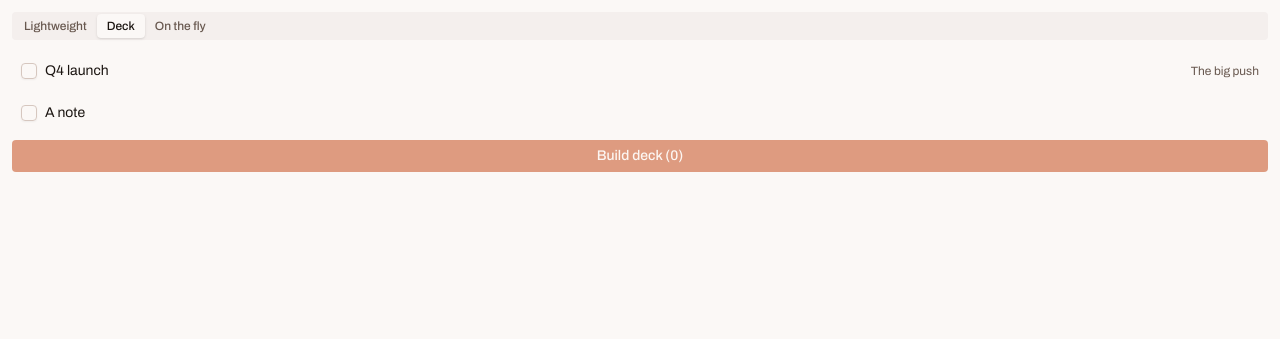
PresentPane — Deck mode › steps forward and back through a multi-slide deck, disabling at each end
The width and height of the screenshot is (1280, 339).
What coordinates should you click on to do the following:
click the checkbox named "Q4 launch" next to "Q4 launch"
I would click on:
 (29, 71)
Its box is [21,63,37,79].
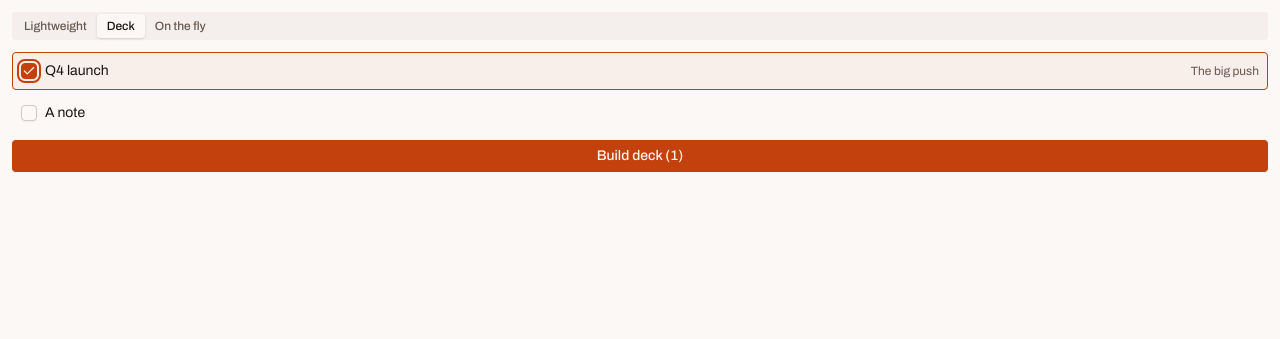
What coordinates should you click on to do the following:
click the checkbox named "A note" next to "A note"
I would click on:
 (29, 113)
Its box is [21,105,37,121].
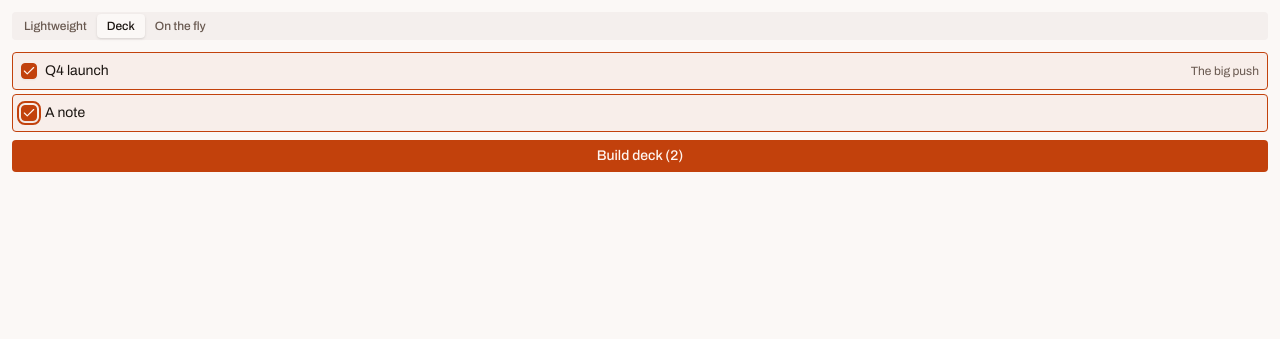
What coordinates should you click on to do the following:
click the button "Build deck (2)"
I would click on:
 (640, 156)
Its box is [12,140,1268,172].
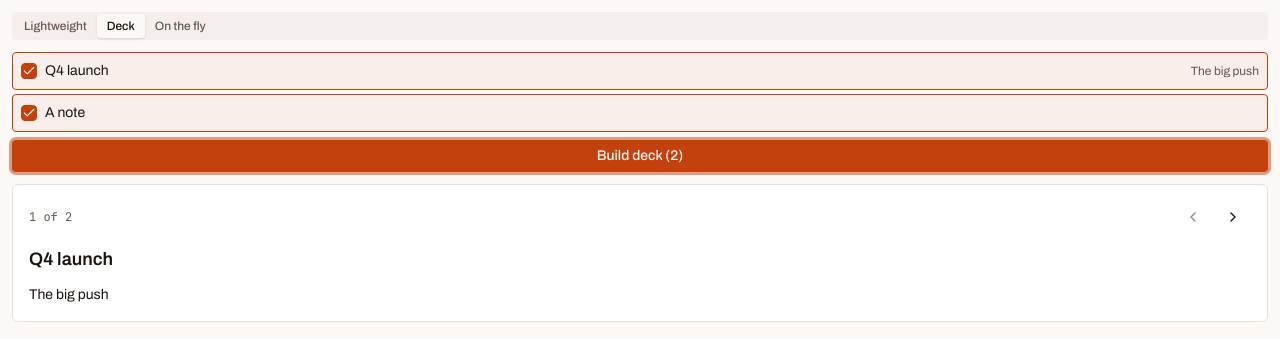
Expected: the button named "Previous slide" is disabled, [1175,201,1211,233]
Result: the text "1 of 2" is shown at [29,209,72,225]
What coordinates should you click on to do the following:
click the button named "Next slide"
I would click on:
 (1233, 217)
Its box is [1215,201,1251,233].
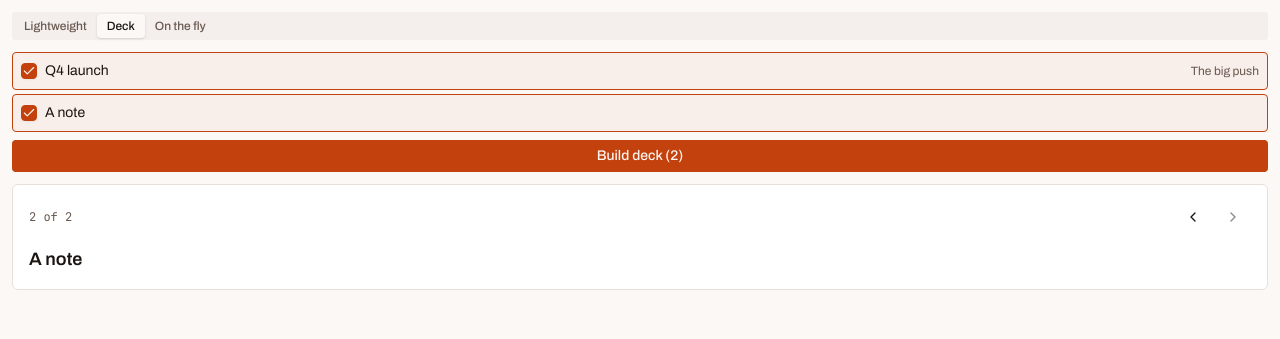
Result: the text "2 of 2" is shown at [29,209,72,225]
What coordinates should you click on to do the following:
click the button named "Previous slide"
I would click on:
 (1193, 217)
Its box is [1175,201,1211,233].
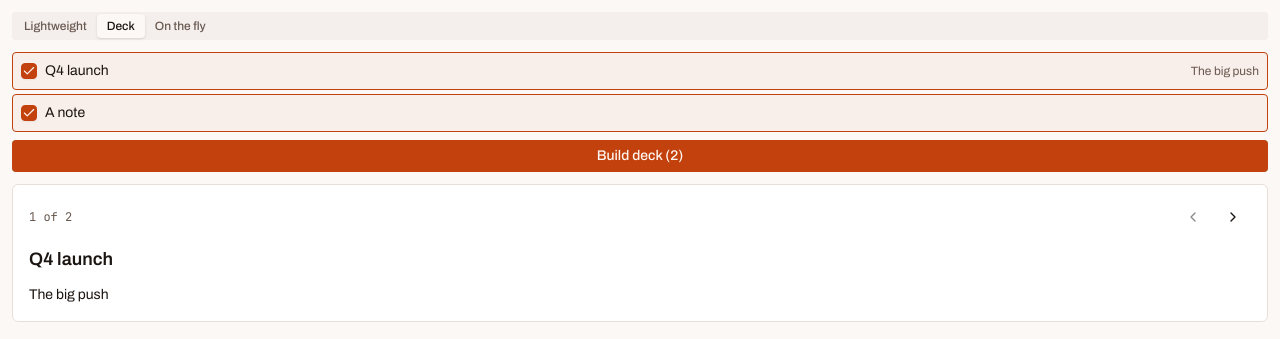
Result: the text "1 of 2" is shown at [29,209,72,225]
